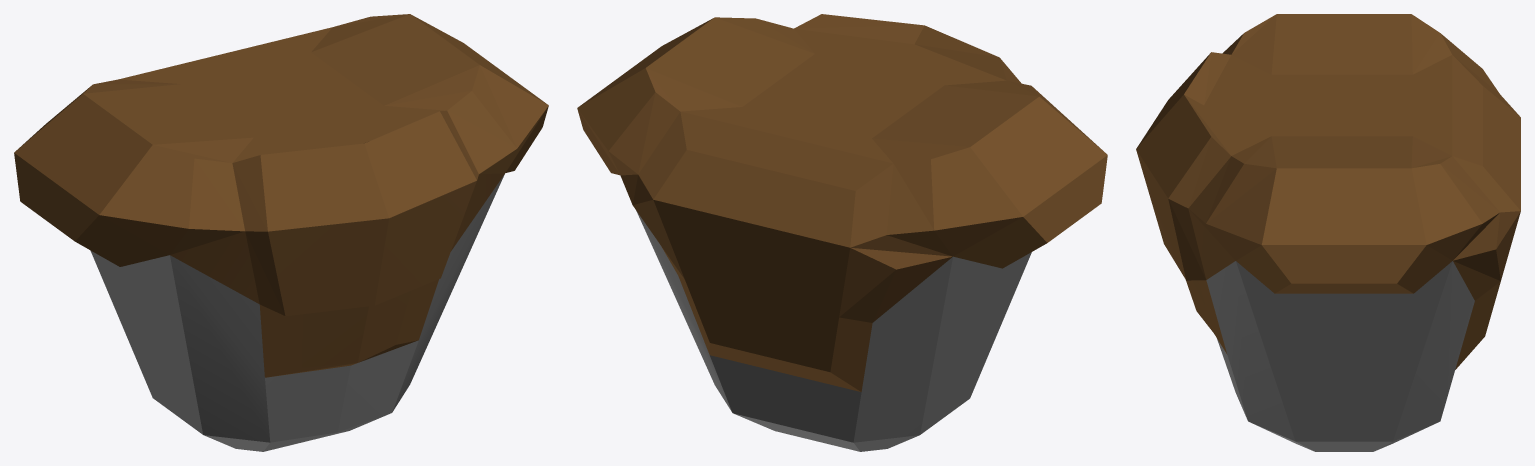
File: Copper Armour.fbx
3 renders of one model, left to right at view 1: azimuth 30°, elevation 25°; view 2: azimuth 150°, elevation 25°; view 3: azimuth 270°, elevation 25°, orthographic. The views are drawn at different scales.
Visible parts, largest first — view 1: Box003; view 2: Box003; view 3: Box003.
Boxes of the visible parts, x1=… form: Box003: x1=14, y1=14, x2=548, y2=451; Box003: x1=577, y1=14, x2=1107, y2=451; Box003: x1=1136, y1=14, x2=1520, y2=451.
Bounding box in the file's own units: 27.17 × 19.08 × 20.03.
